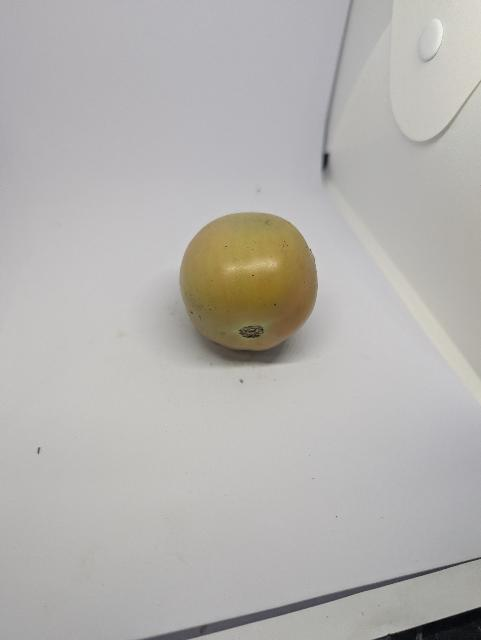breaker: (176, 210, 323, 355)
